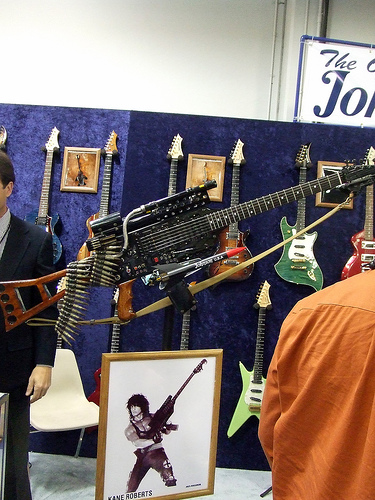rifle: (6, 178, 237, 345)
